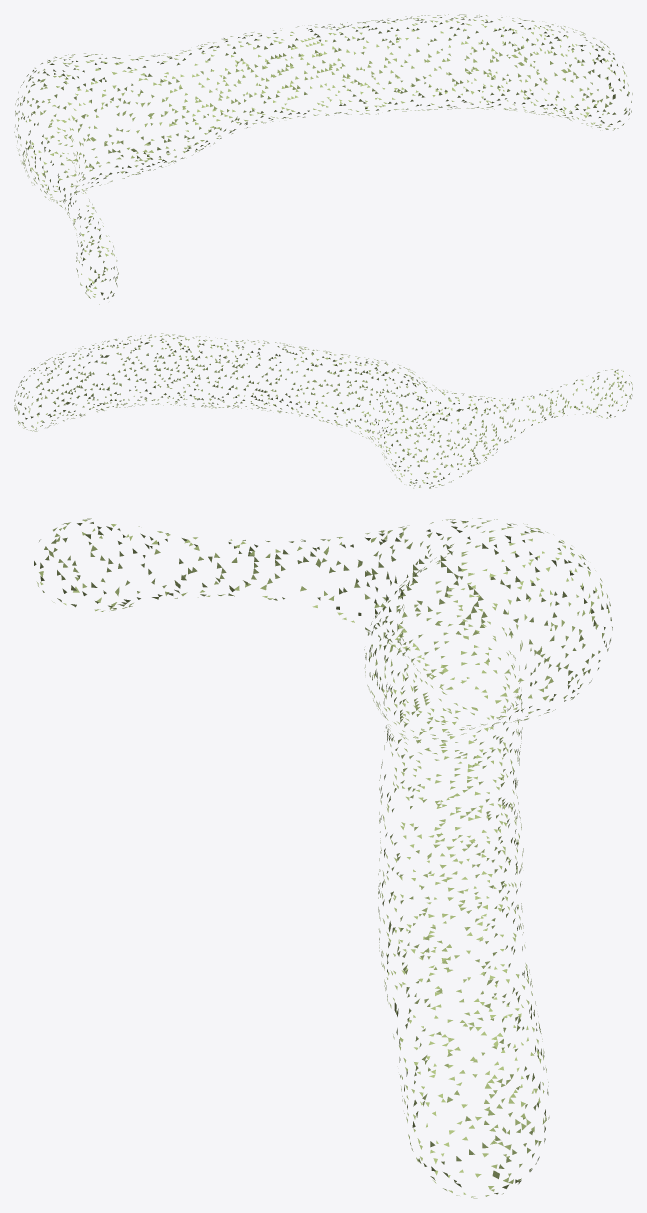
The model's file is morph_011.glb.
3 renders of one model, top to bottom at view 1: azimuth 30°, elevation 25°; view 2: azimuth 150°, elevation 25°; view 3: azimuth 270°, elevation 25°, orthographic. The views are drawn at different scales.
Size of the model in its own units: 127 by 34.02 by 63.15.
